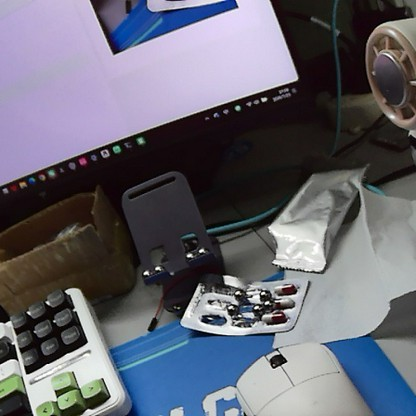ironball: (153, 261, 166, 280), (255, 285, 271, 300), (178, 250, 195, 262), (233, 286, 245, 301), (195, 246, 208, 259), (261, 298, 274, 311), (139, 266, 150, 279), (225, 300, 235, 312), (251, 302, 261, 314)
